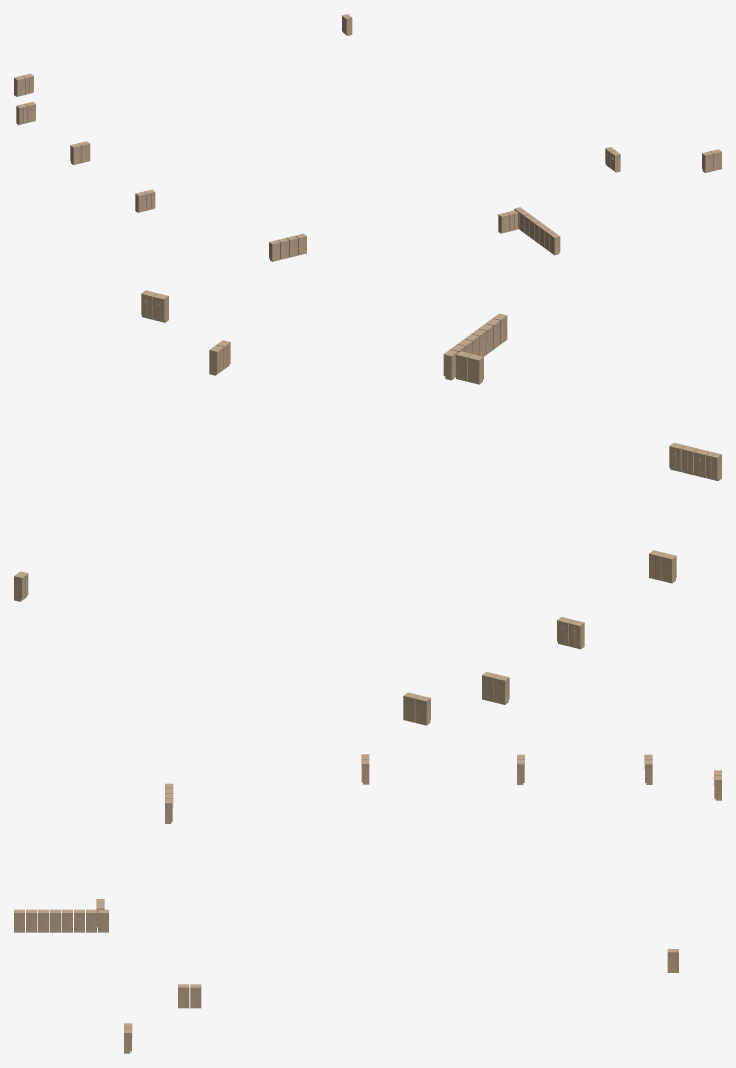
Rendered from cabinet 2.glb.
The picture shows the model from 3 angles, top to bottom: view 1: azimuth 30°, elevation 25°; view 2: azimuth 150°, elevation 25°; view 3: azimuth 270°, elevation 25°; orthographic projection. The views are drawn at different scales.
Bounding box in the file's own units: 17.17 × 0.5929 × 18.45.
Materials: 2 (2 with a texture image).
